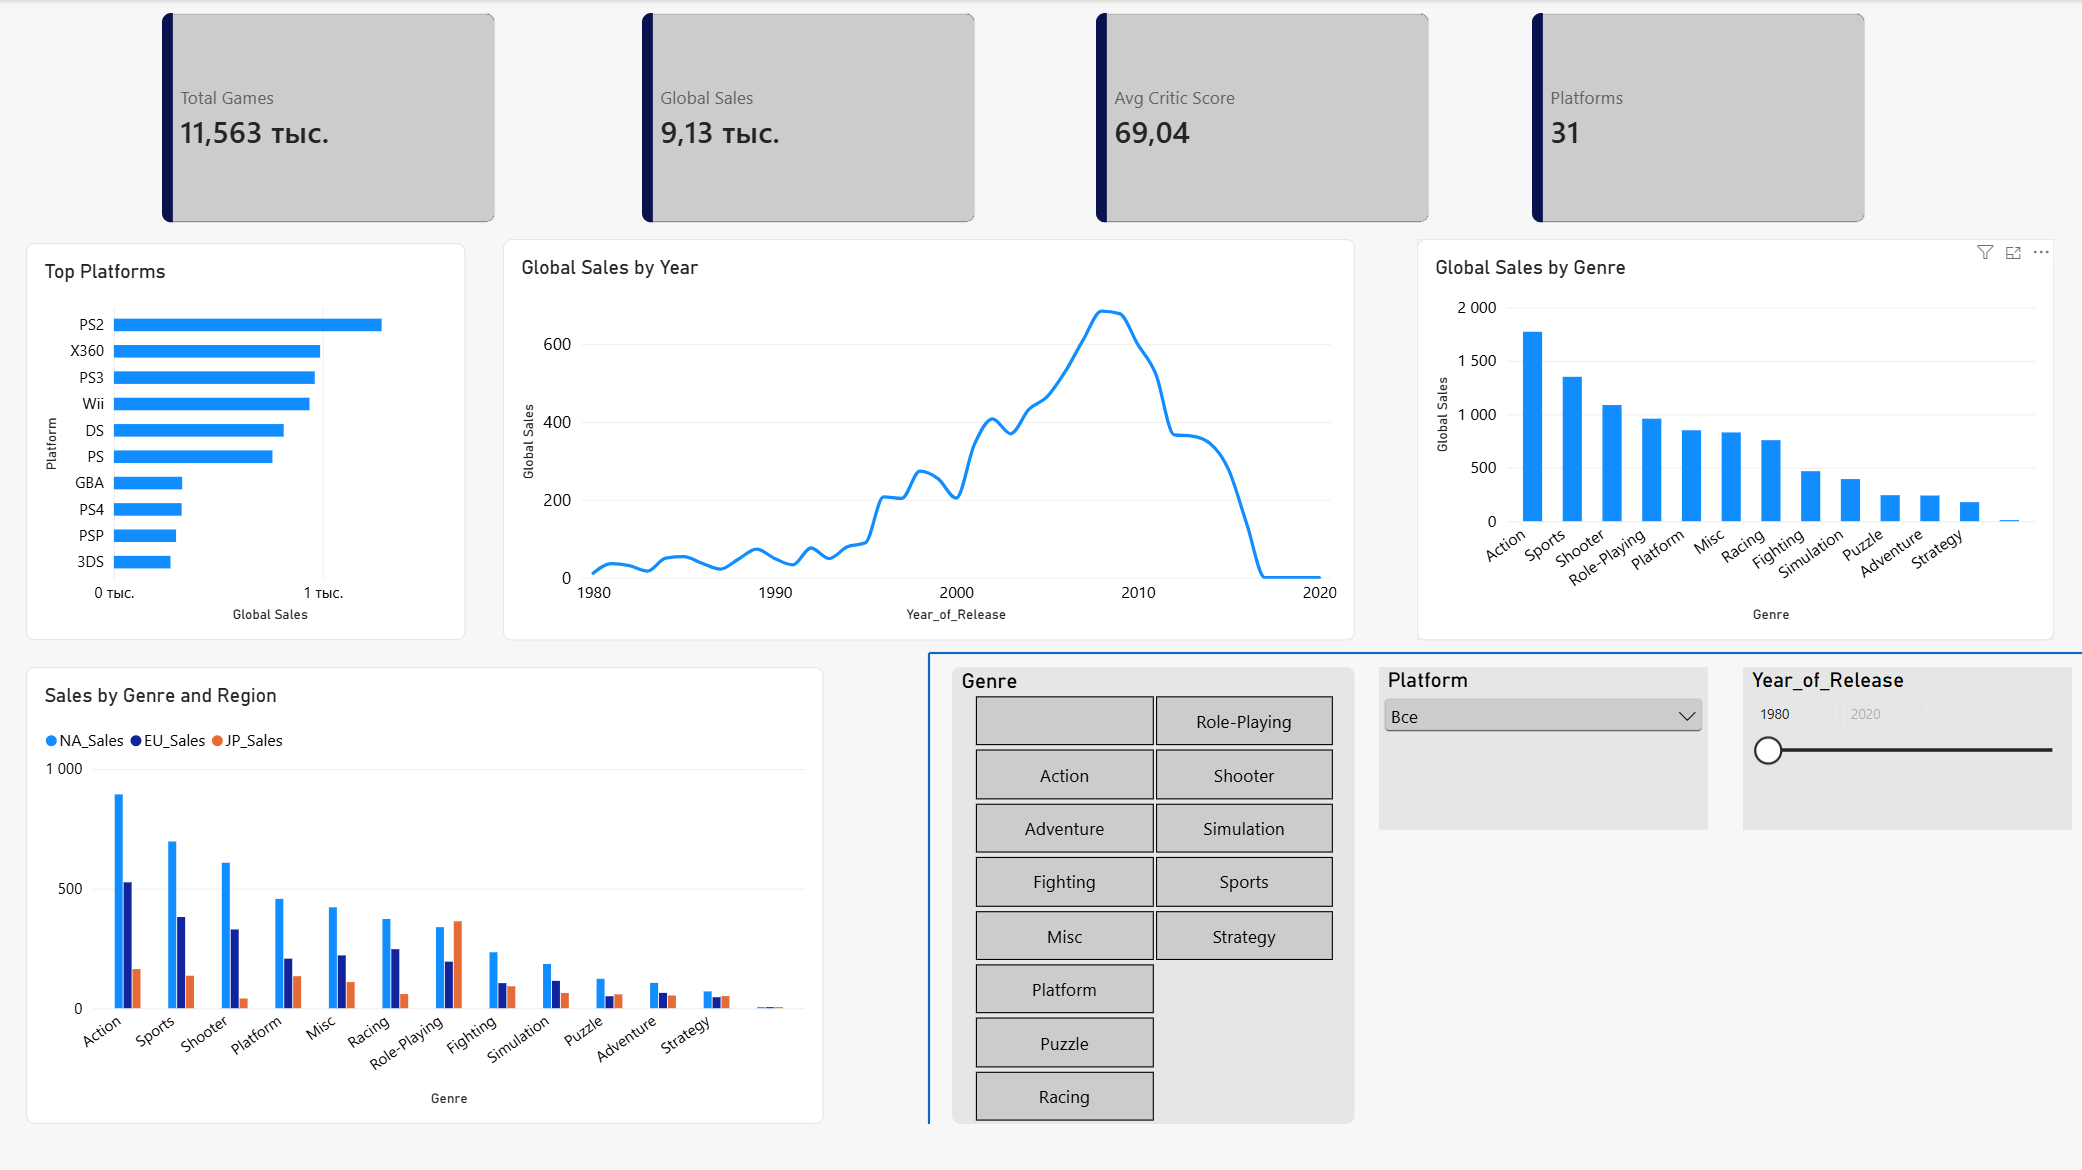

What the dashboard file says about the page in this screenshot:
{"tool":"powerbi","page":{"name":"Страница 1","canvas":[1920,1080],"ordinal":0},"visuals":[{"type":"cardVisual","fields":{"Data":["Sum(Video_Games.Global_Sales)"]},"box":[591.9,11.8,307.2,193.4],"z":1},{"type":"clusteredBarChart","title":"Top Platforms","fields":{"Category":["Video_Games.Platform"],"Y":["Sum(Video_Games.Global_Sales)"]},"box":[23.6,223.8,405.4,366.1],"z":4},{"type":"lineChart","title":"Global Sales by Year","fields":{"Category":["Video_Games.Year_of_Release"],"Y":["Sum(Video_Games.Global_Sales)"]},"box":[463.3,219.9,785.3,370.1],"z":5},{"type":"cardVisual","fields":{"Data":["Avg(Video_Games.Critic_Score)"]},"box":[1010.1,11.8,307.2,193.4],"z":6},{"type":"cardVisual","fields":{"Data":["Count(Video_Games.Platform)"]},"box":[1411.5,11.8,307.2,193.4],"z":7},{"type":"cardVisual","fields":{"Data":["Count(Video_Games.Name)"]},"box":[149.2,11.8,307.2,193.4],"z":8},{"type":"clusteredColumnChart","title":"Global Sales by Genre","fields":{"Category":["Video_Games.Genre"],"Y":["Sum(Video_Games.Global_Sales)"]},"box":[1305.5,219.9,587,370.1],"z":9},{"type":"clusteredColumnChart","title":"Sales by Genre and Region","fields":{"Category":["Video_Games.Genre"],"Y":["Sum(Video_Games.NA_Sales)","Sum(Video_Games.EU_Sales)","Sum(Video_Games.JP_Sales)"]},"box":[23.6,614.5,735.2,421.1],"z":10},{"type":"slicer","fields":{"Values":["Video_Games.Genre"]},"box":[877.5,614.5,371,421.1],"z":11},{"type":"slicer","fields":{"Values":["Video_Games.Platform"]},"box":[1271.2,614.5,303.3,150.2],"z":12},{"type":"slicer","fields":{"Values":["Video_Games.Year_of_Release"]},"box":[1605.9,614.5,303.3,150.2],"z":13},{"type":"shape","box":[856.1,595.3,1064.3,12.9],"z":14},{"type":"shape","box":[849.6,601.7,12.9,434],"z":15}]}

Visuals, with their boxes in screenshot pixels (x1, y1, x2, y2), scaled from the page's 1920x1080 canvas onto the 2082x1170 screenshot:
cardVisual - Sum(Video_Games.Global_Sales): left=642, top=13, right=975, bottom=222
"Top Platforms" clusteredBarChart: left=26, top=242, right=465, bottom=639
"Global Sales by Year" lineChart: left=502, top=238, right=1354, bottom=639
cardVisual - Avg(Video_Games.Critic_Score): left=1095, top=13, right=1428, bottom=222
cardVisual - Count(Video_Games.Platform): left=1531, top=13, right=1864, bottom=222
cardVisual - Count(Video_Games.Name): left=162, top=13, right=495, bottom=222
"Global Sales by Genre" clusteredColumnChart: left=1416, top=238, right=2052, bottom=639
"Sales by Genre and Region" clusteredColumnChart: left=26, top=666, right=823, bottom=1122
slicer - Video_Games.Genre: left=952, top=666, right=1354, bottom=1122
slicer - Video_Games.Platform: left=1378, top=666, right=1707, bottom=828
slicer - Video_Games.Year_of_Release: left=1741, top=666, right=2070, bottom=828
shape: left=928, top=645, right=2081, bottom=659
shape: left=921, top=652, right=935, bottom=1122
